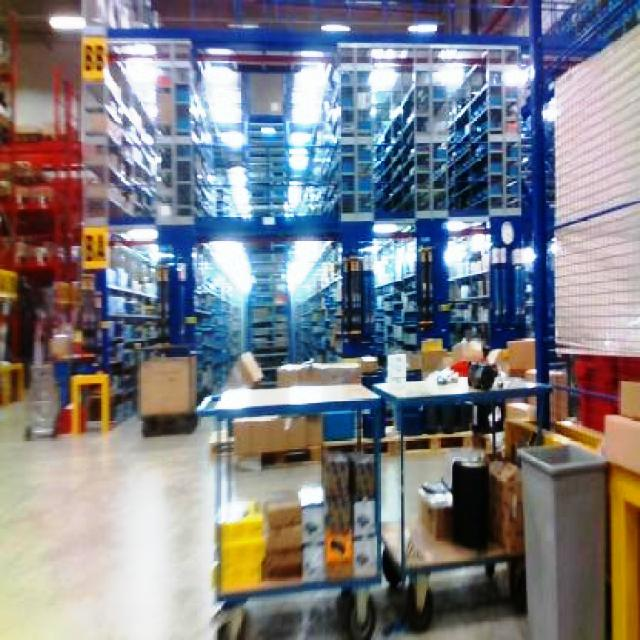ground: (0, 389, 540, 638)
pallet: (202, 337, 638, 638), (205, 355, 385, 638), (377, 372, 548, 629), (215, 335, 554, 463), (503, 372, 638, 638), (598, 375, 638, 638), (135, 349, 198, 435), (69, 372, 109, 434), (0, 358, 25, 408)
